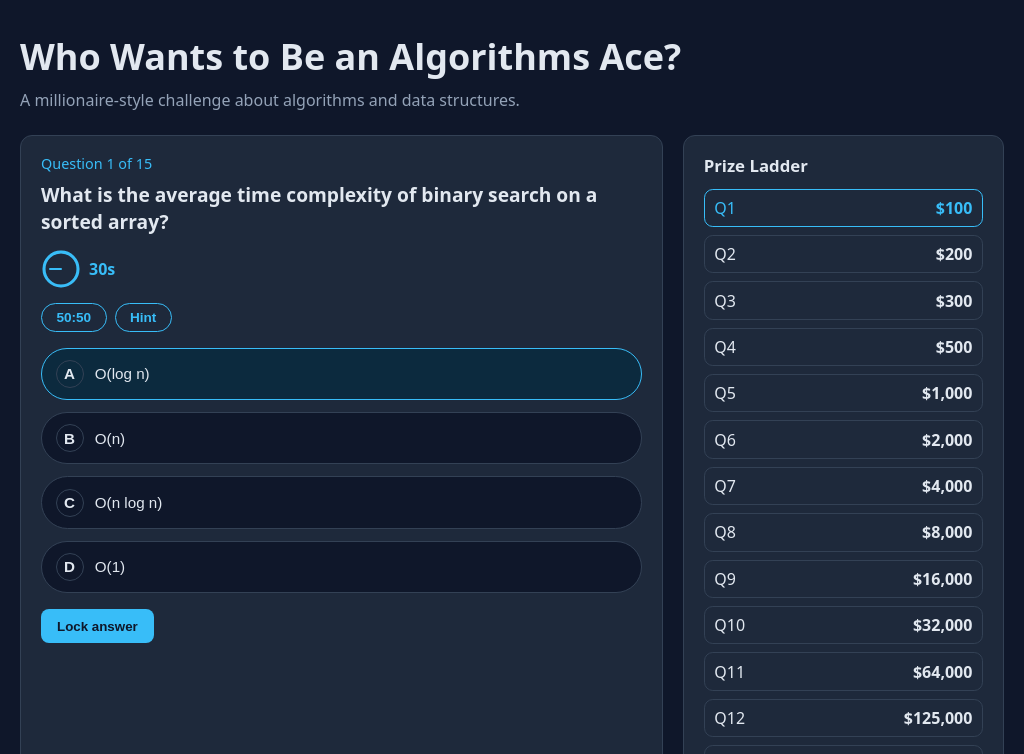
Test: AlgorithmsQuizPage › reveals an algorithms specific hint
Step 1. Click the button "Hint" → (143, 318), box [115,303,172,332]
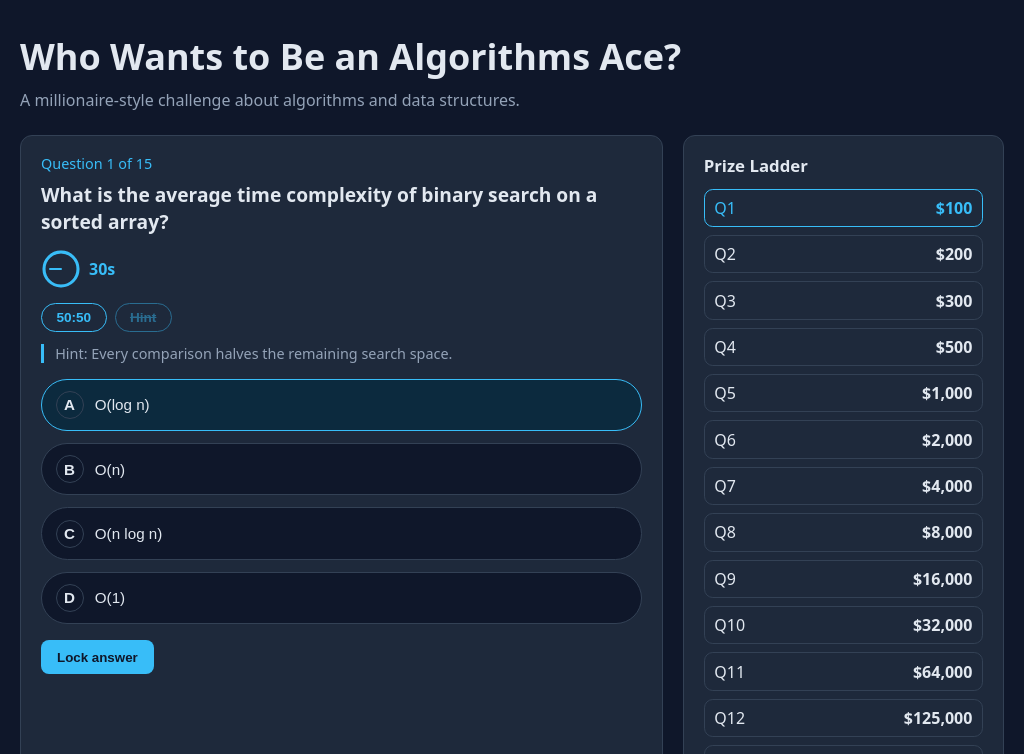
Now the text "Hint: Every comparison halves the remaining search space." is shown, box [41,344,642,363]
